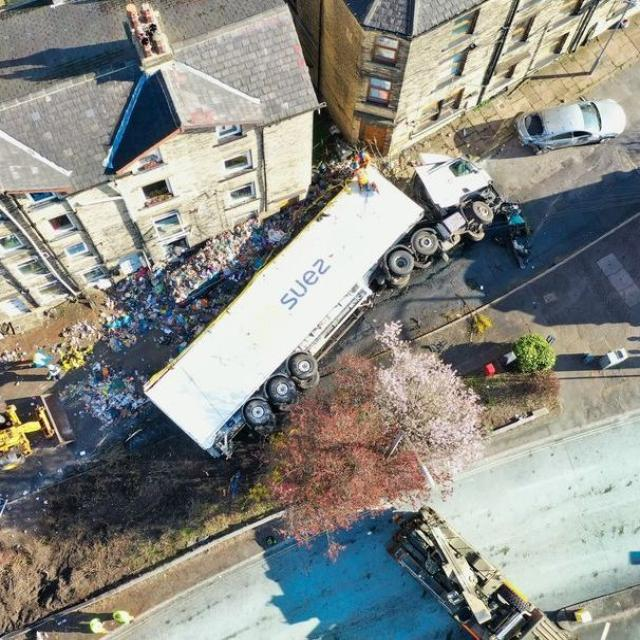traffic_incident: (144, 129, 486, 453)
